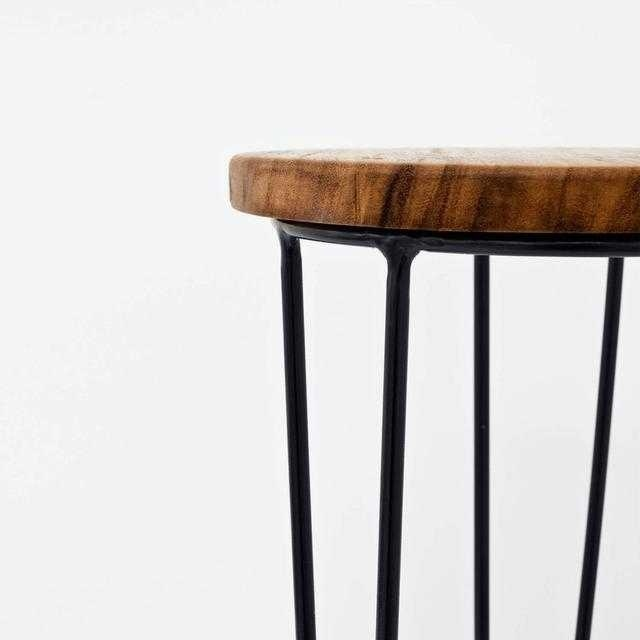obstacle: (229, 148, 639, 639)
